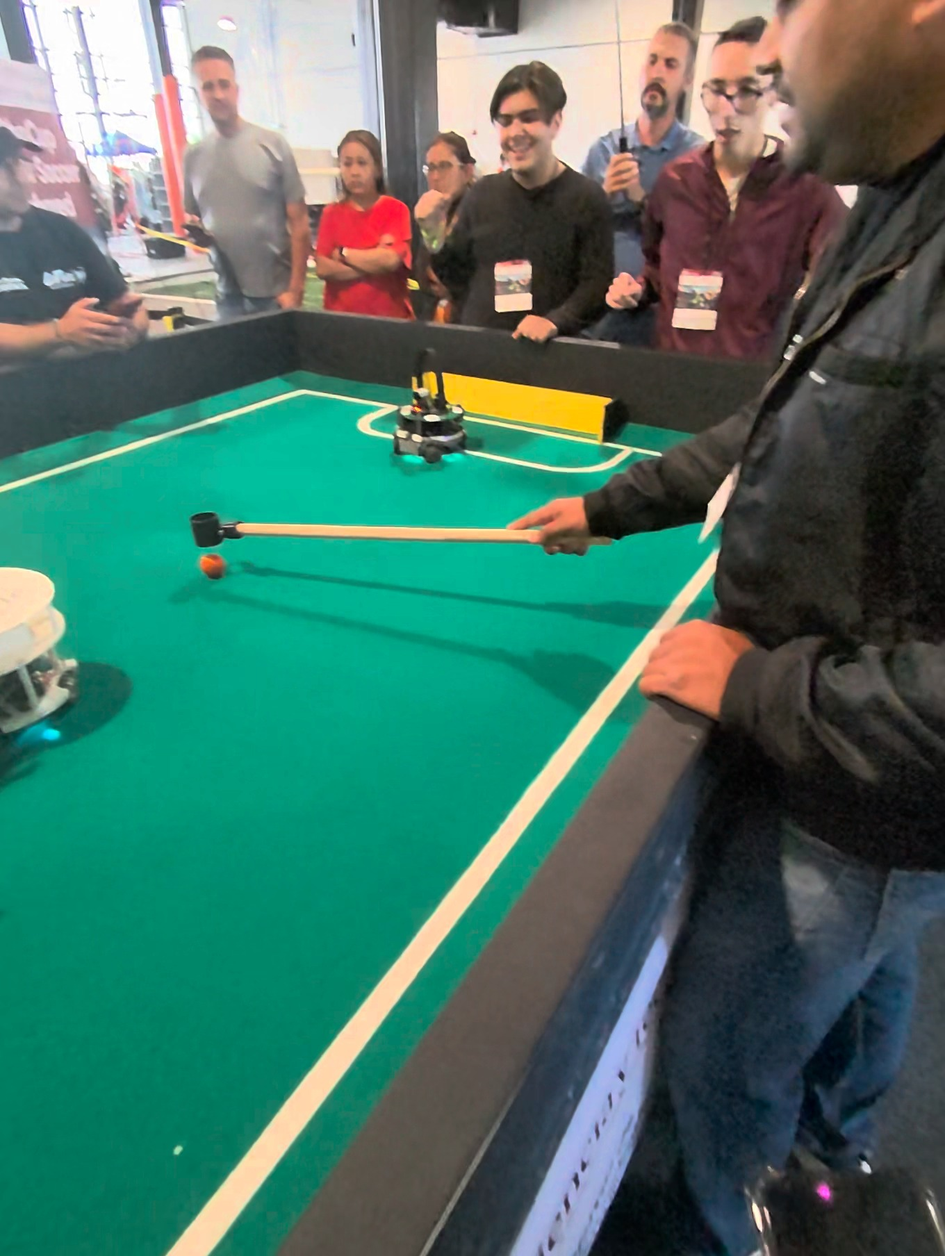Robot: (0, 541, 113, 762), (391, 344, 476, 475)
pelota: (192, 539, 234, 586)
